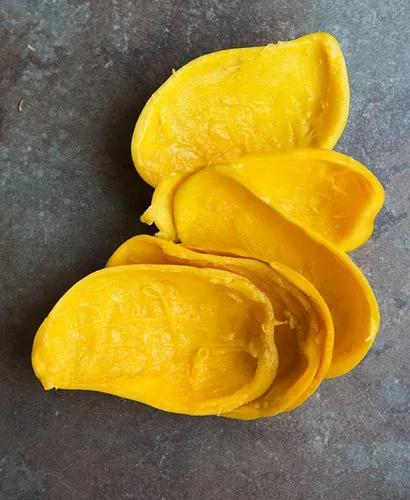organic: (143, 148, 384, 418), (32, 265, 292, 415), (131, 32, 349, 185)
